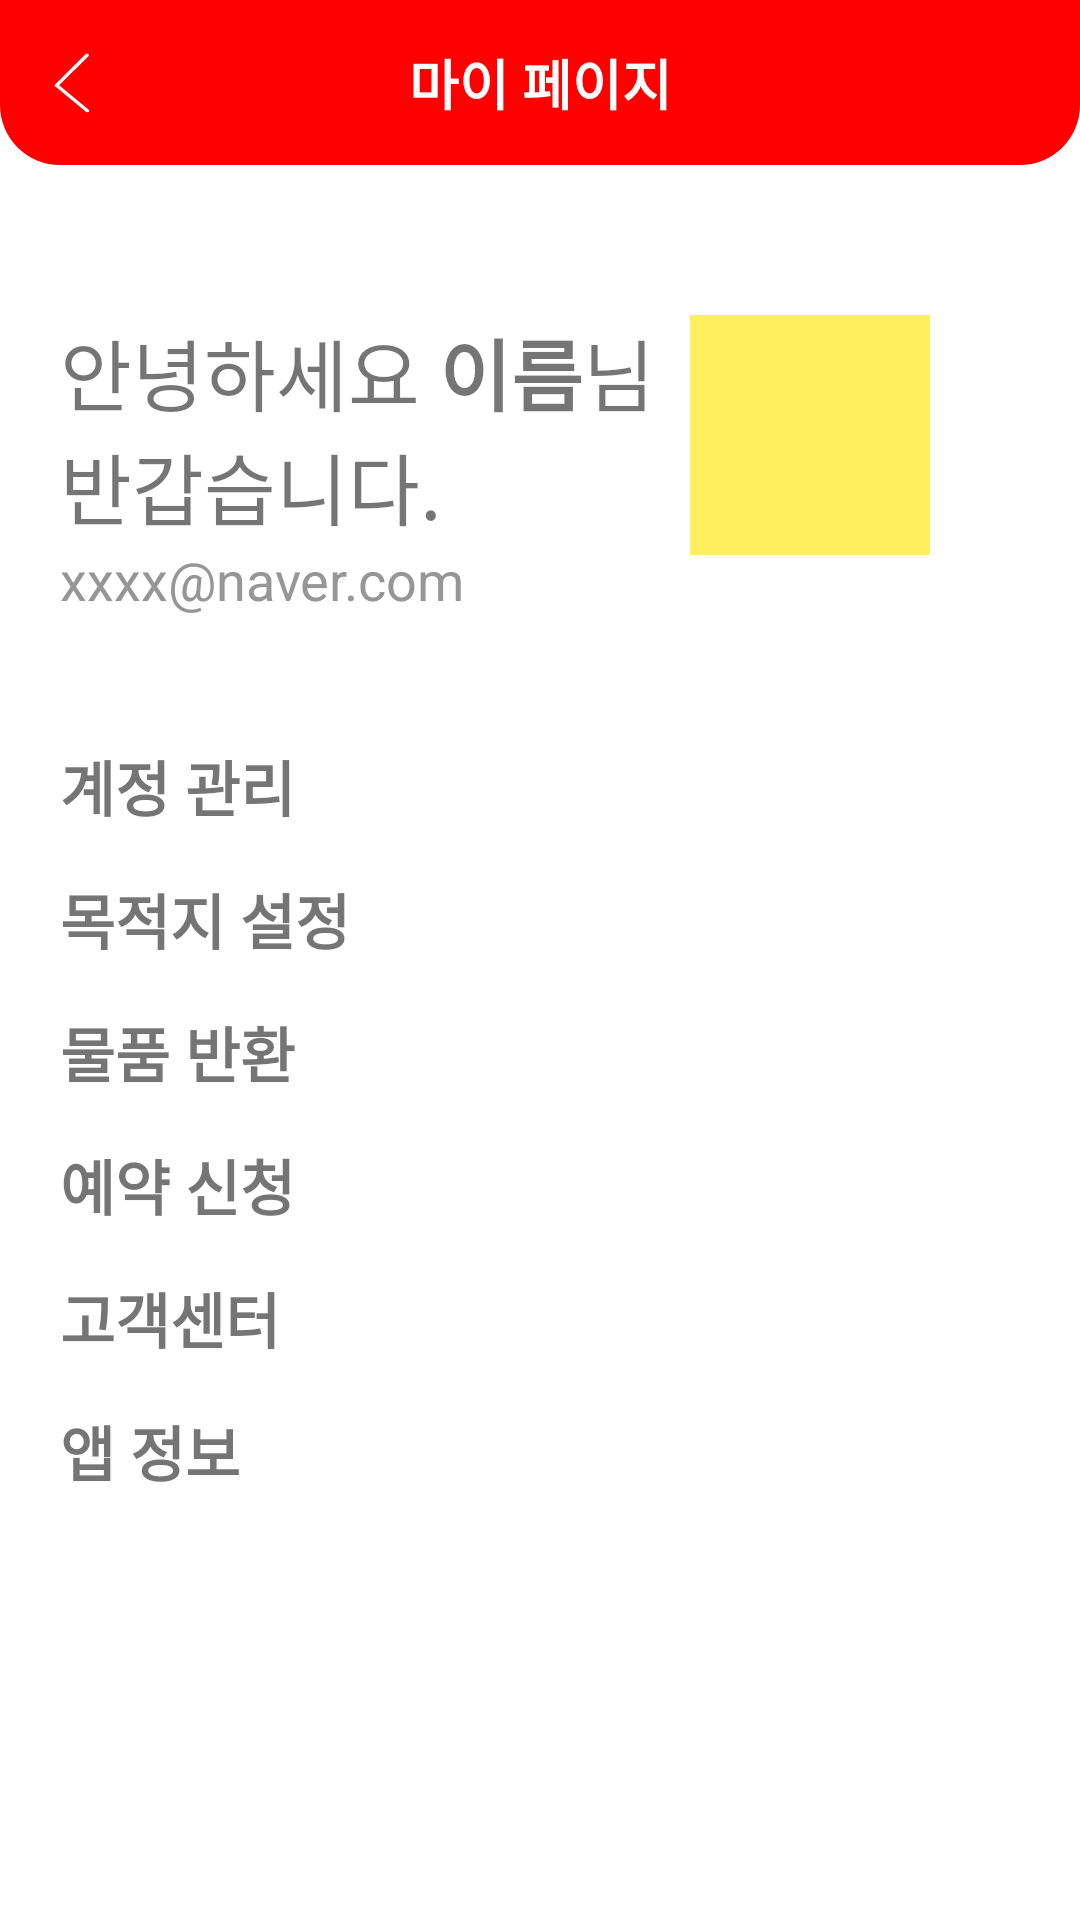

Locate icon controls on the screen. Image size 1080px x 1920px, boxes as detection(x1, y1, x2, y2).
back: detection(54, 53, 90, 113)
